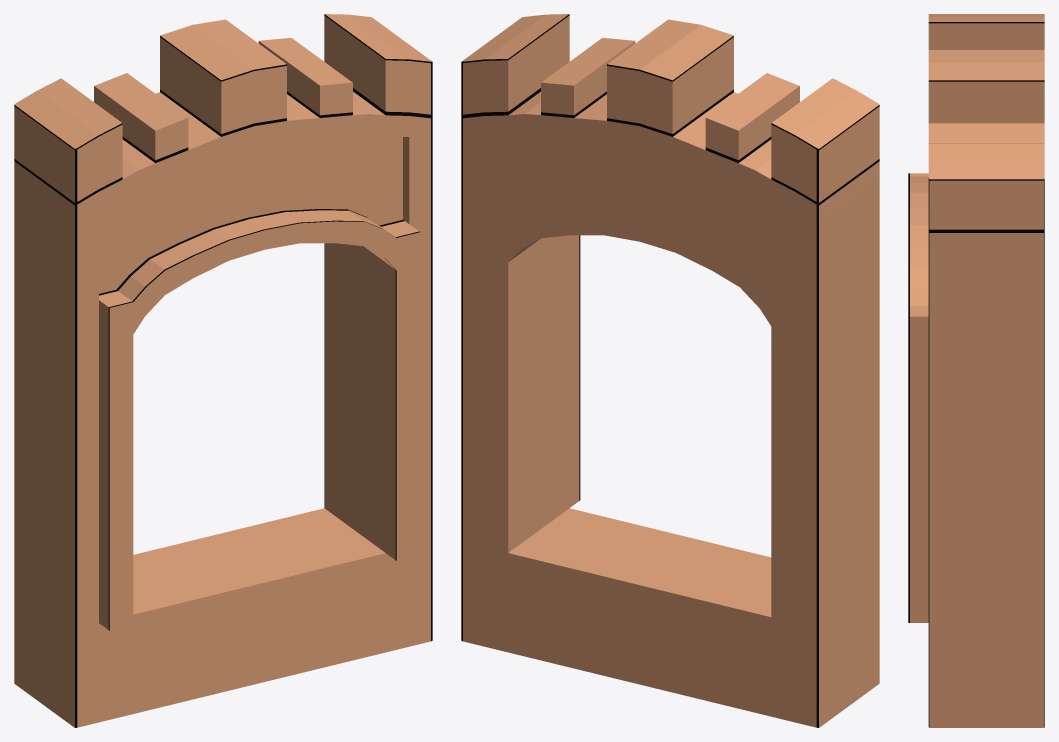
The model's file is CastleDoors01.fbx.
3 renders of one model, left to right at view 1: azimuth 30°, elevation 25°; view 2: azimuth 150°, elevation 25°; view 3: azimuth 270°, elevation 25°, orthographic. The views are drawn at different scales.
Visible parts, largest first — view 1: Cube.071; view 2: Cube.071; view 3: Cube.071.
Part boxes in pixels (bbox=[...]): Cube.071: bbox=[14, 14, 432, 727]; Cube.071: bbox=[461, 14, 879, 727]; Cube.071: bbox=[908, 14, 1044, 727].
Size of the model in its own units: 674 by 1107 by 235.
